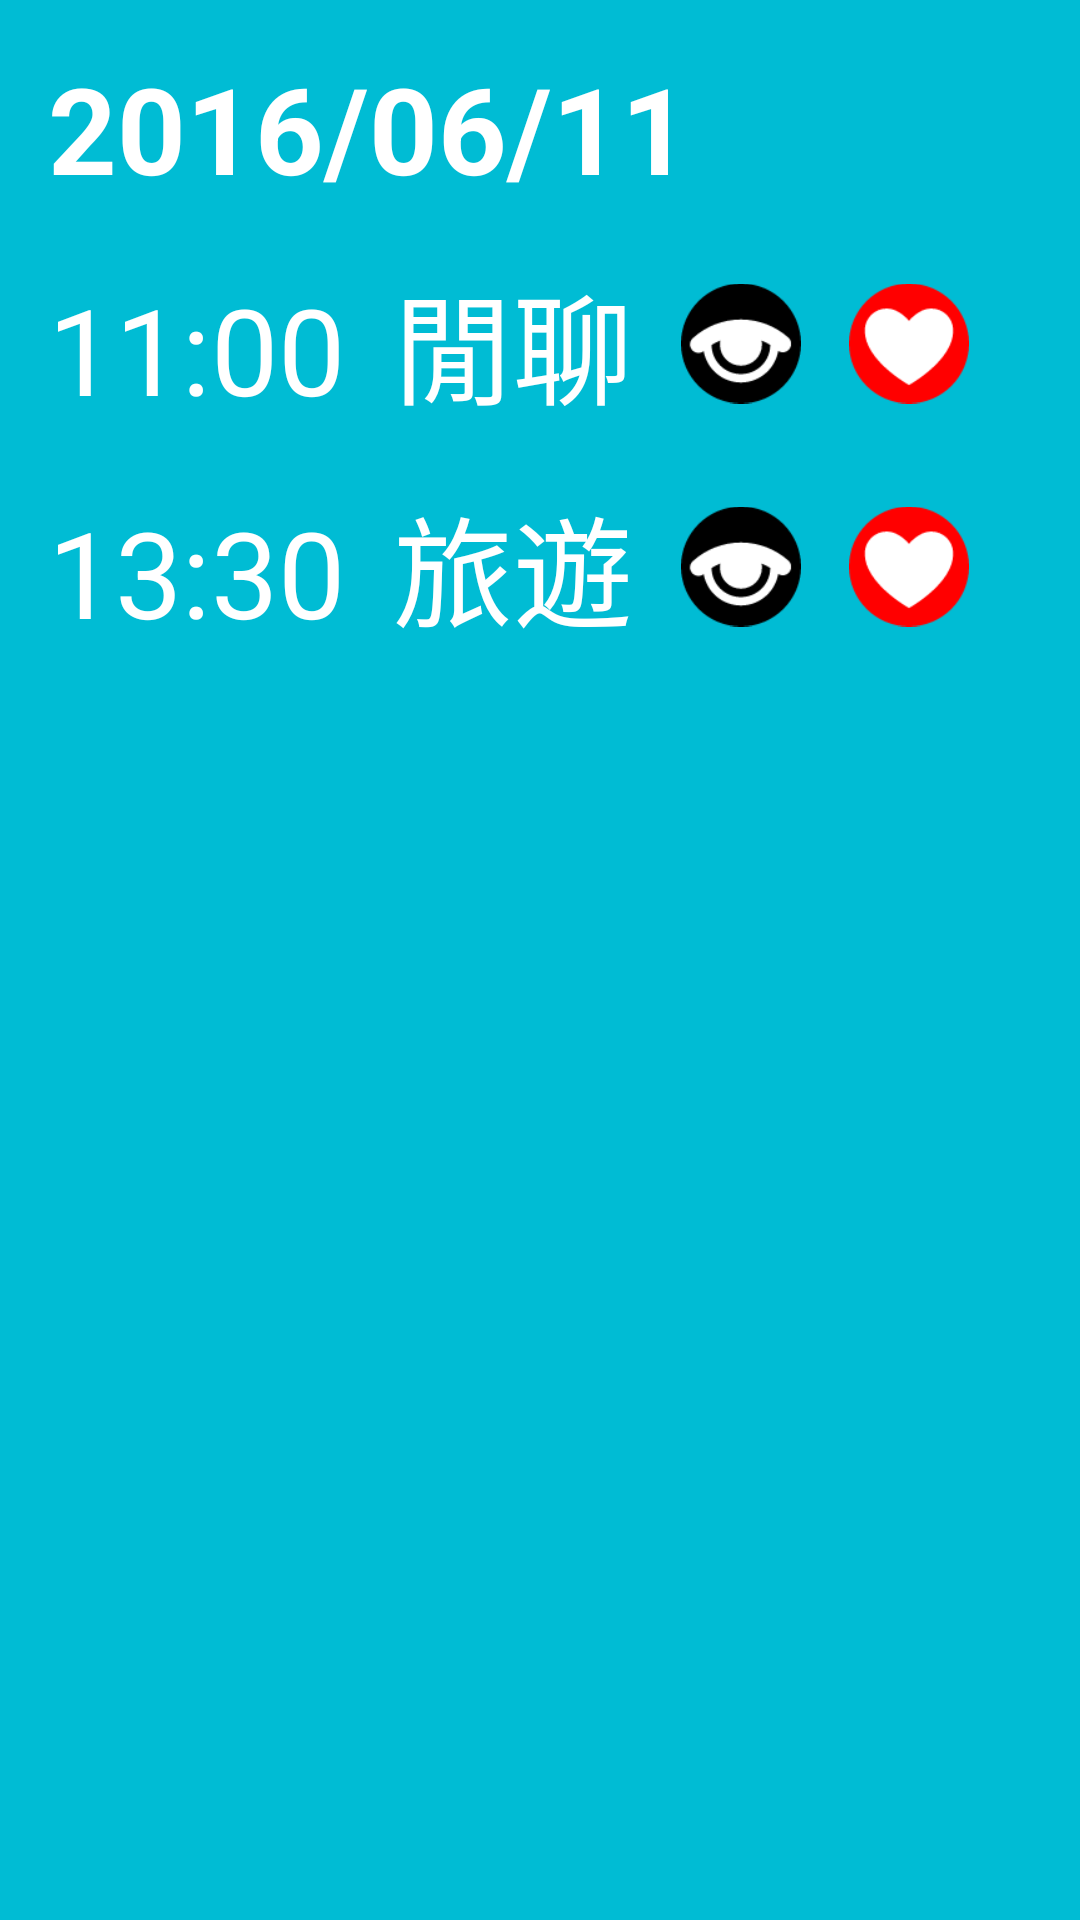

Screen size 1080x1920. Icon name, then its box in pixels as (x1, y1, x2, y2):
heart: (849, 284, 969, 404), (849, 507, 969, 627)
